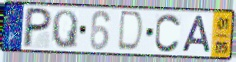6: (88, 9, 114, 52)
A: (180, 14, 213, 54)
C: (153, 12, 182, 54)
D: (116, 10, 145, 54)
P: (21, 6, 54, 49)
Q: (50, 9, 79, 51)
